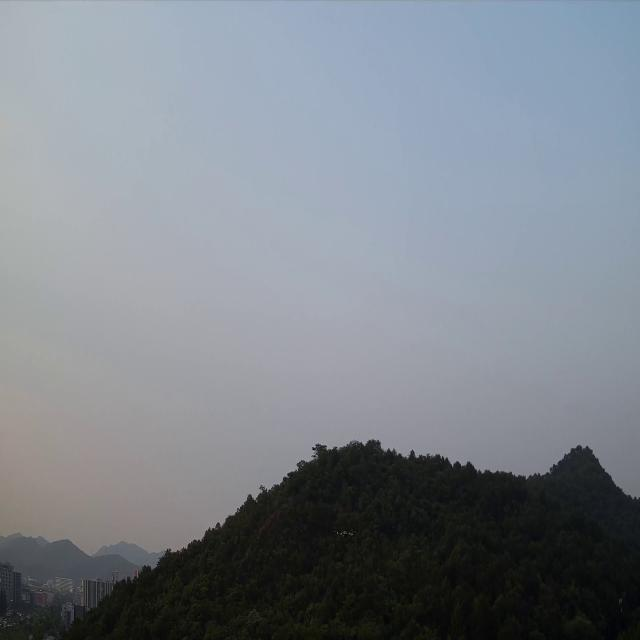UAV: (333, 527, 356, 538)
